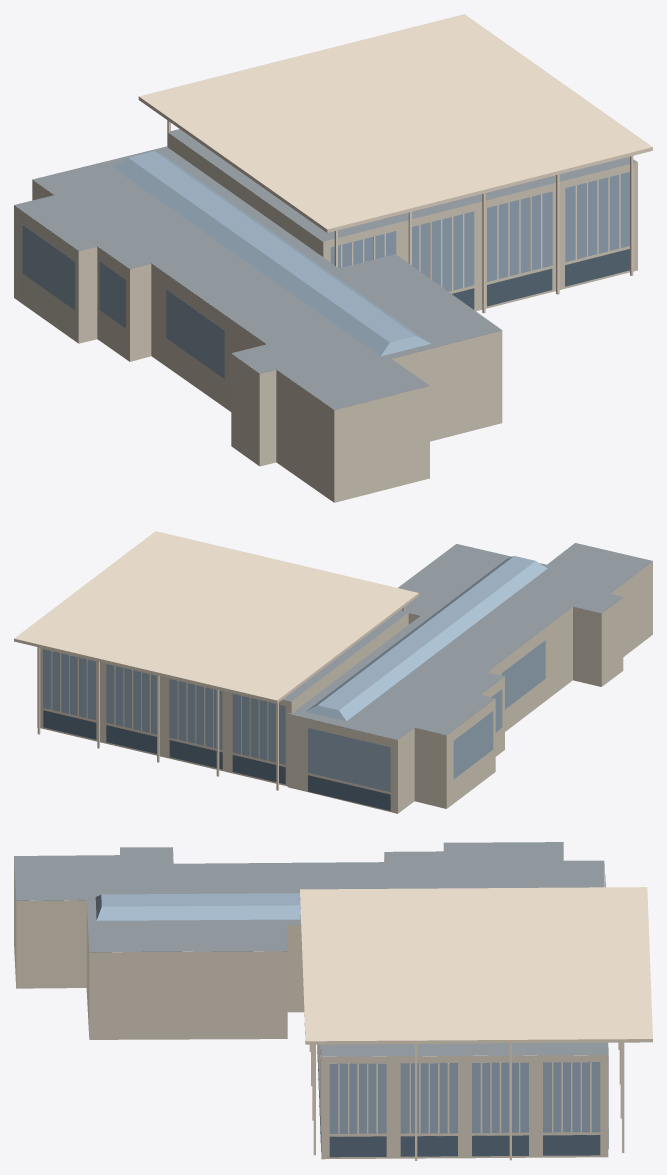
3 renders of one model, top to bottom at view 1: azimuth 30°, elevation 25°; view 2: azimuth 150°, elevation 25°; view 3: azimuth 270°, elevation 25°, orthographic. The views are drawn at different scales.
Parts seen in each view (by area): view 1: art-institute-of-chicago-modern-wing; view 2: art-institute-of-chicago-modern-wing; view 3: art-institute-of-chicago-modern-wing.
Part boxes in pixels (x1,y1,x2,y2): art-institute-of-chicago-modern-wing: [14, 14, 652, 502]; art-institute-of-chicago-modern-wing: [14, 531, 652, 813]; art-institute-of-chicago-modern-wing: [14, 842, 652, 1160].
Size of the model in its own units: 102 by 24.85 by 119.
